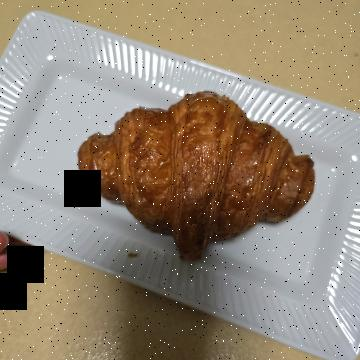croissant: (68, 34, 273, 308)
